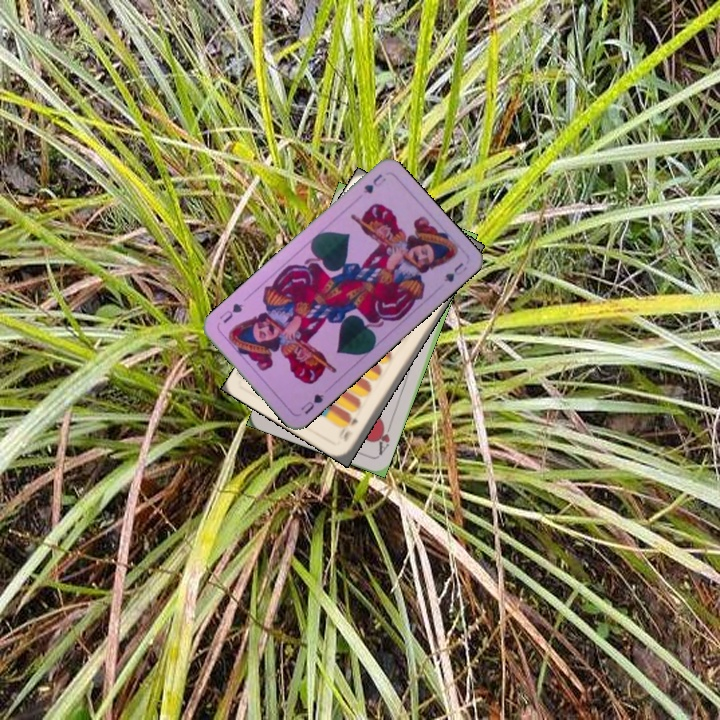E10: (339, 414, 360, 445)
GU: (297, 390, 326, 417), (359, 170, 389, 196)
HA: (373, 419, 395, 458)
